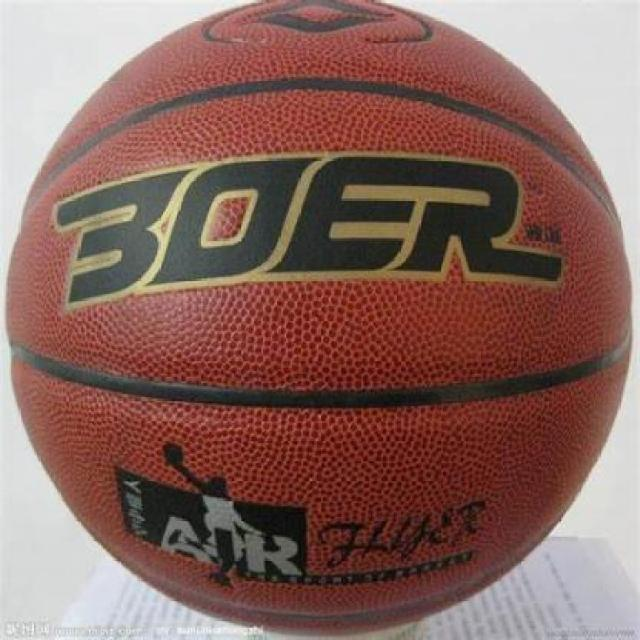basketball: (6, 0, 632, 640)
